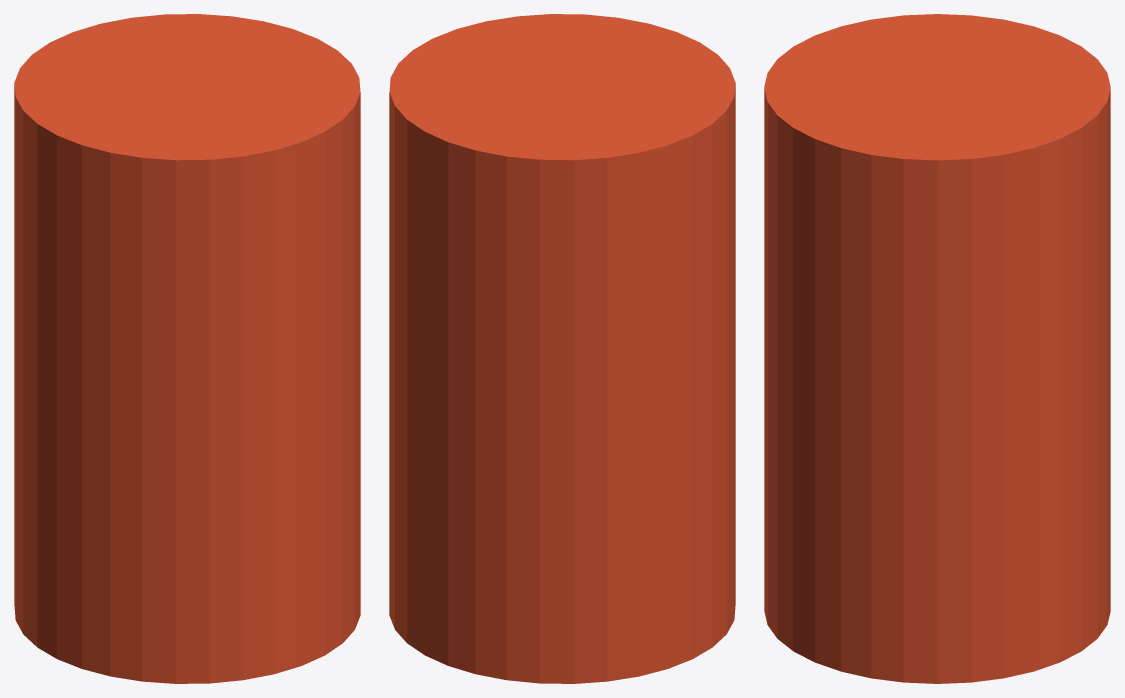
Rendered from palm_tree_stump.glb.
3 renders of one model, left to right at view 1: azimuth 30°, elevation 25°; view 2: azimuth 150°, elevation 25°; view 3: azimuth 270°, elevation 25°, orthographic.
Visible parts, largest first — view 1: Stump-col; view 2: Stump-col; view 3: Stump-col.
Boxes of the visible parts, x1,y1,x2,y2 form: Stump-col: [14, 14, 360, 683]; Stump-col: [389, 14, 735, 683]; Stump-col: [764, 14, 1110, 683].
Bounding box in the file's own units: 2.4 × 4 × 2.4.
